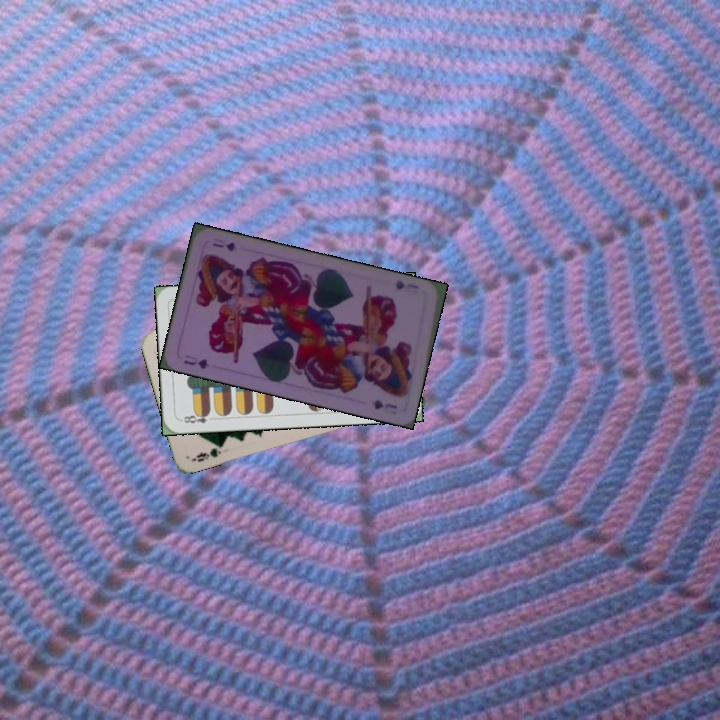E8: (177, 408, 217, 426)
G9: (192, 444, 224, 464)
GU: (180, 351, 212, 372), (390, 276, 421, 292)
